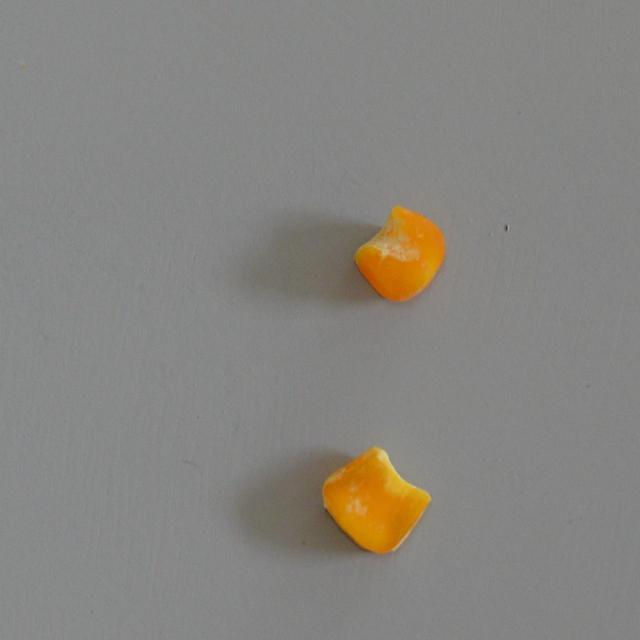no_canjicado: (352, 205, 446, 303)
pelicula: (318, 444, 433, 556)
